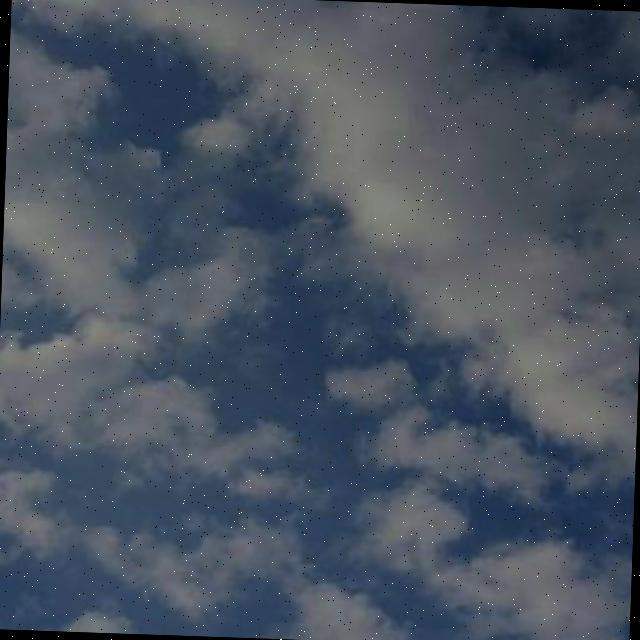Cc: (1, 36, 640, 593)
